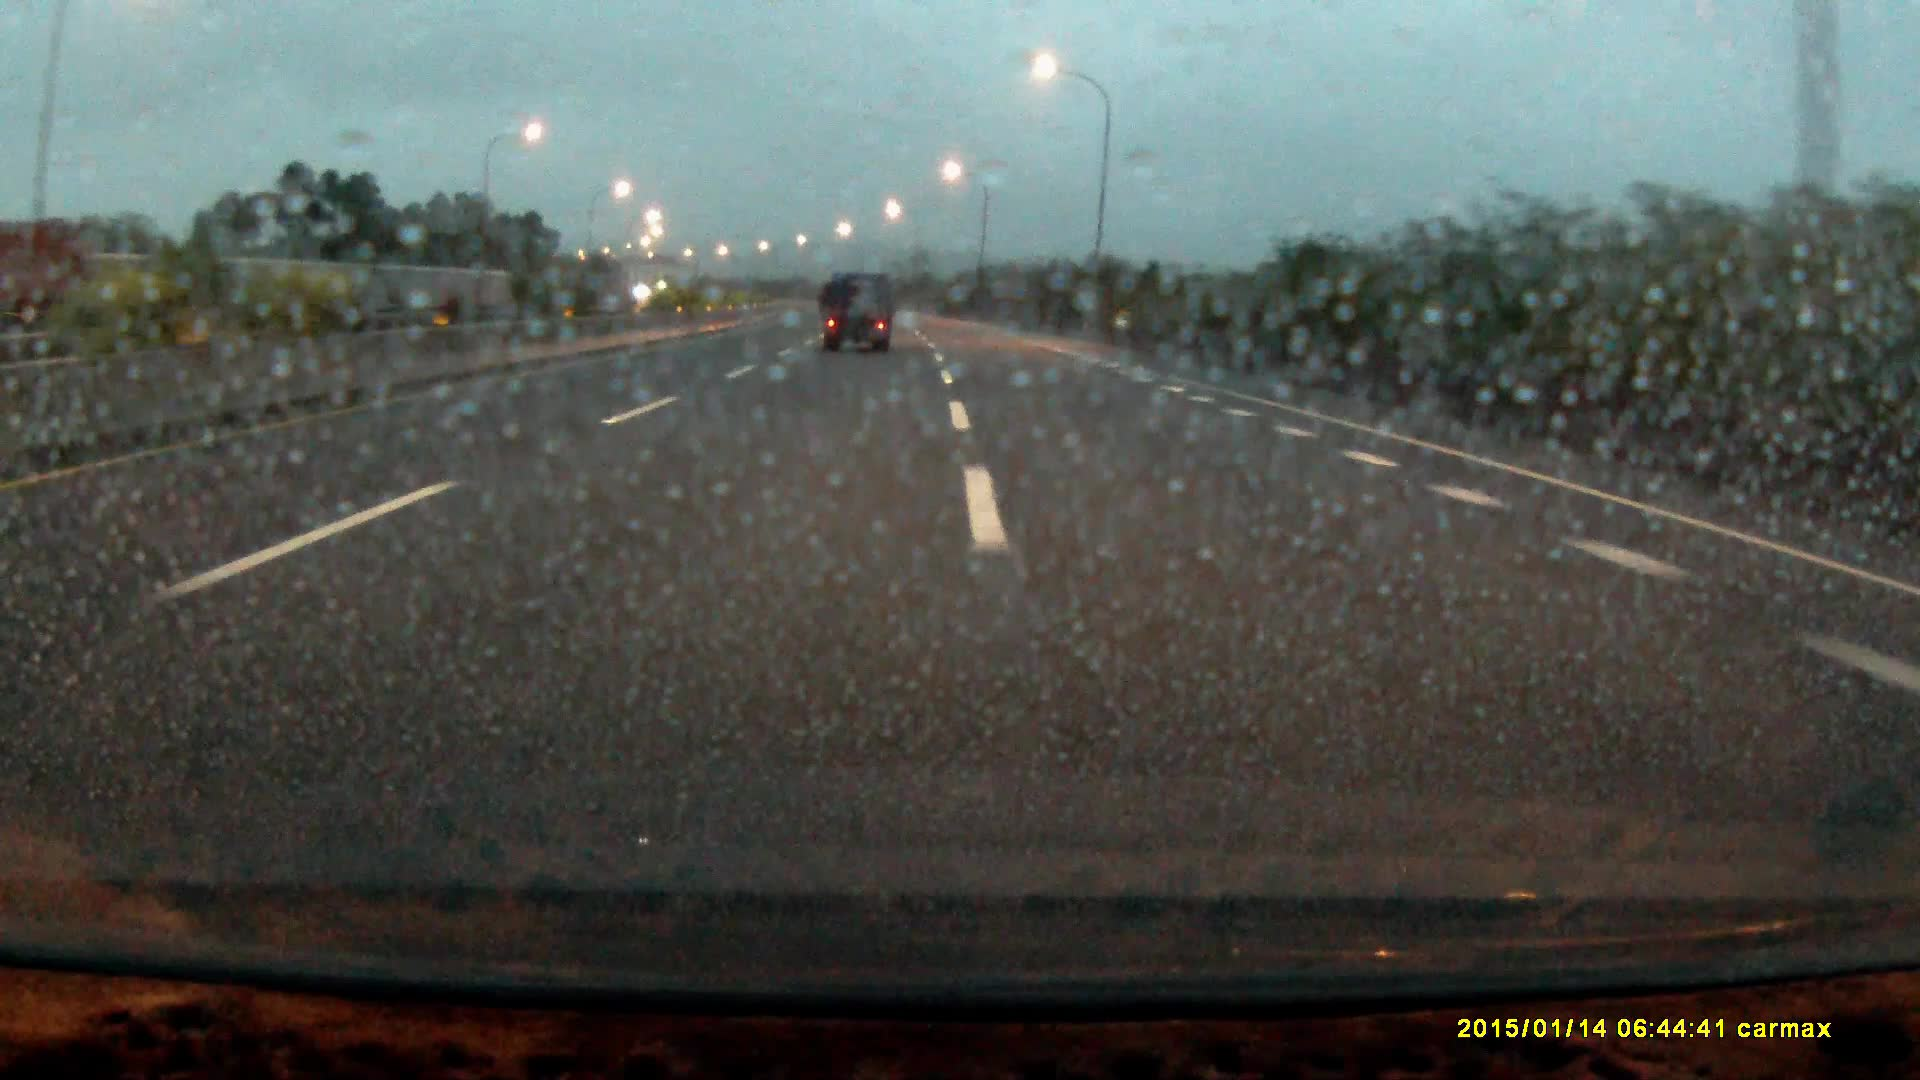vehicle: (3, 222, 107, 322), (822, 266, 895, 352)
